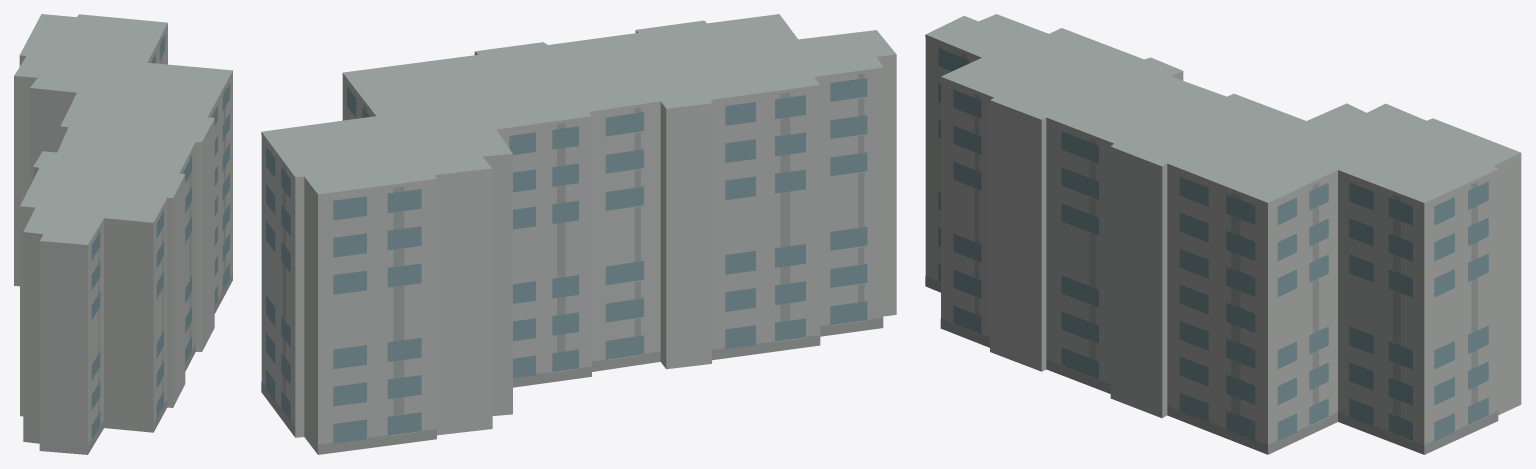
The model's file is survey-upis-32711755.glb.
3 renders of one model, left to right at view 1: azimuth 30°, elevation 25°; view 2: azimuth 150°, elevation 25°; view 3: azimuth 270°, elevation 25°, orthographic. The views are drawn at different scales.
Parts seen in each view (by area): view 1: survey-upis-32711755.tmp; view 2: survey-upis-32711755.tmp; view 3: survey-upis-32711755.tmp.
Boxes of the visible parts, x1=… form: survey-upis-32711755.tmp: x1=14, y1=14, x2=232, y2=454; survey-upis-32711755.tmp: x1=261, y1=14, x2=896, y2=454; survey-upis-32711755.tmp: x1=925, y1=14, x2=1521, y2=454.
Size of the model in its own units: 31.07 by 19.3 by 41.39.
